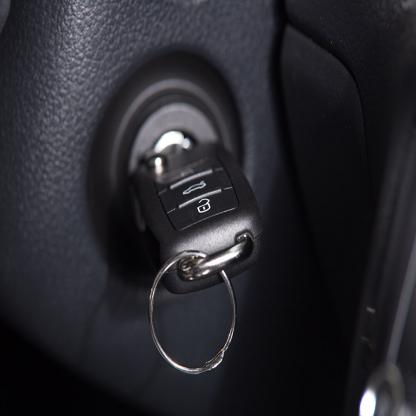keys: (138, 130, 264, 294)
